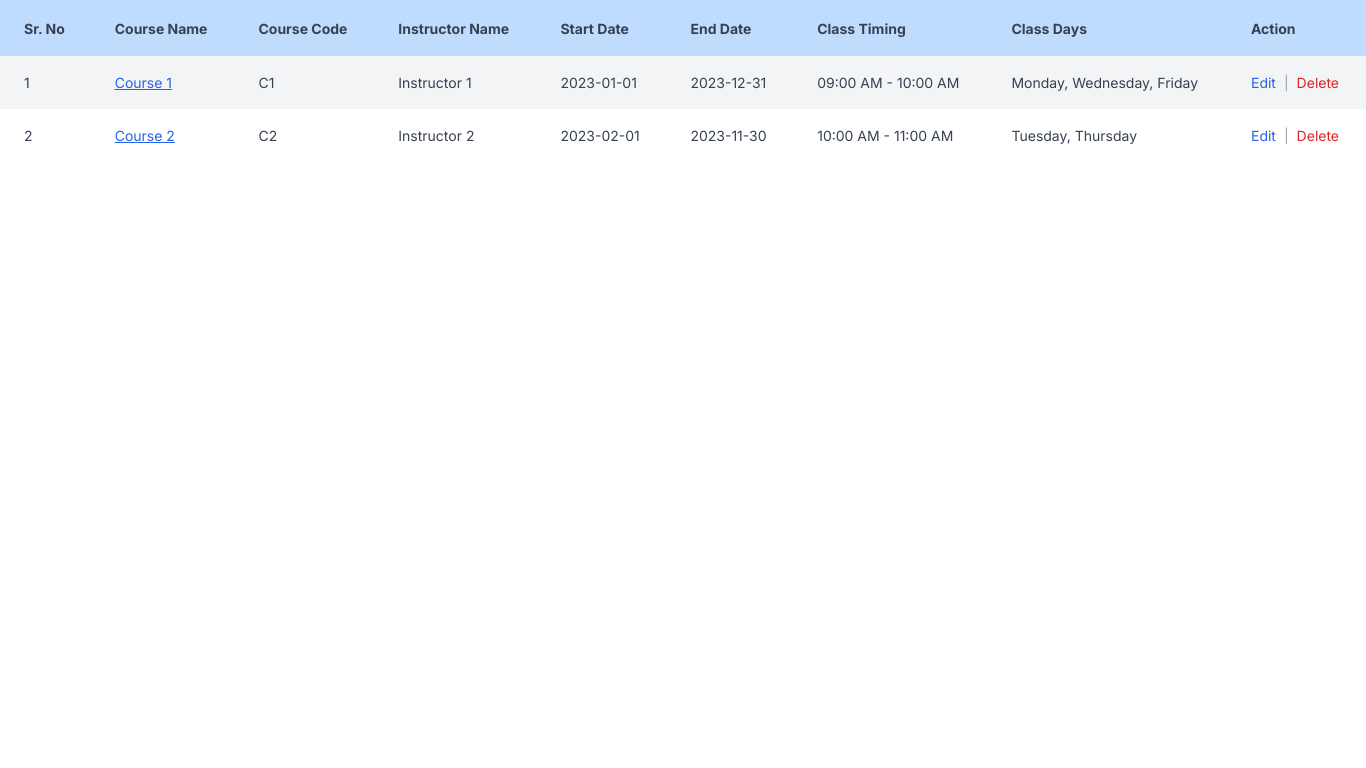
CourseTable Component › opens delete confirmation on delete button click
Step 1. Click the button "Delete" in the row of "Course 1" → (1318, 82), box [1297,72,1339,93]
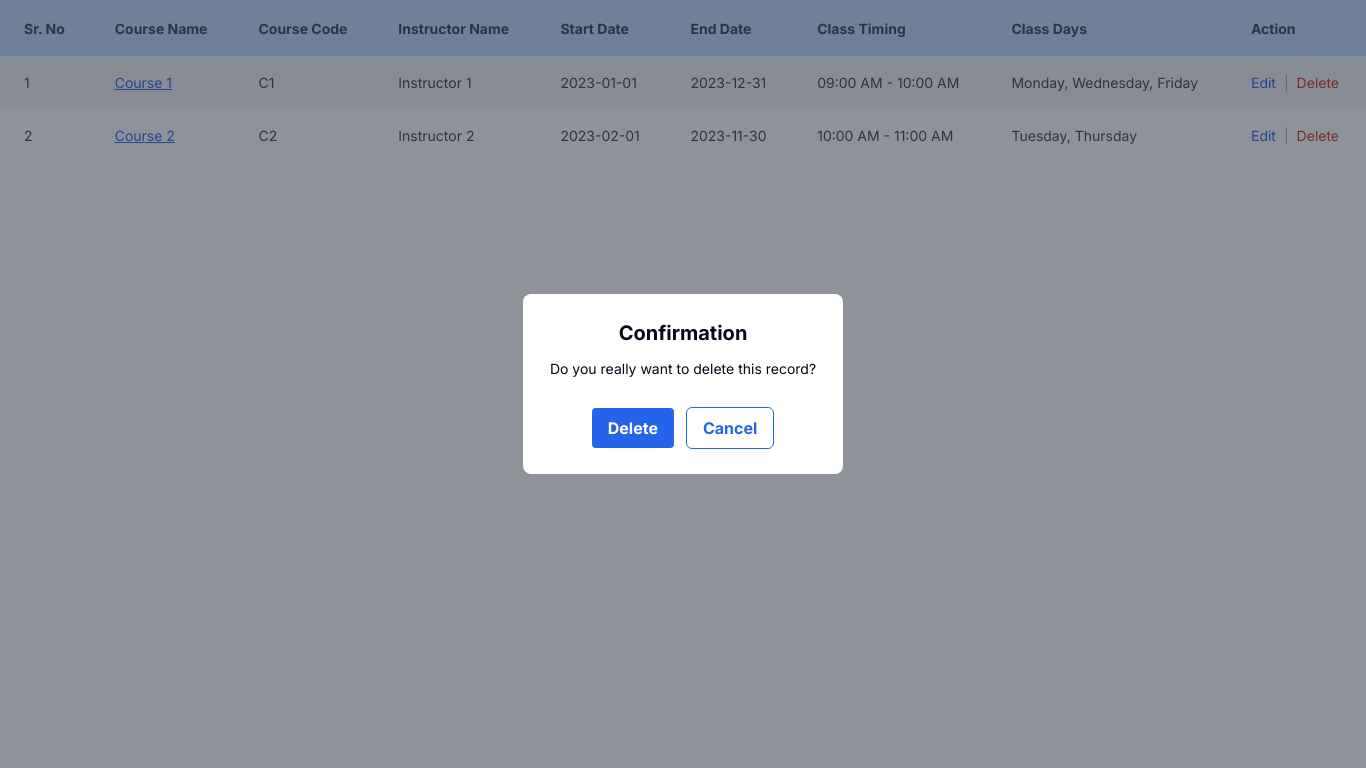
Expected: the heading "Do you really want to delete this record?" is shown, [550,359,816,379]
